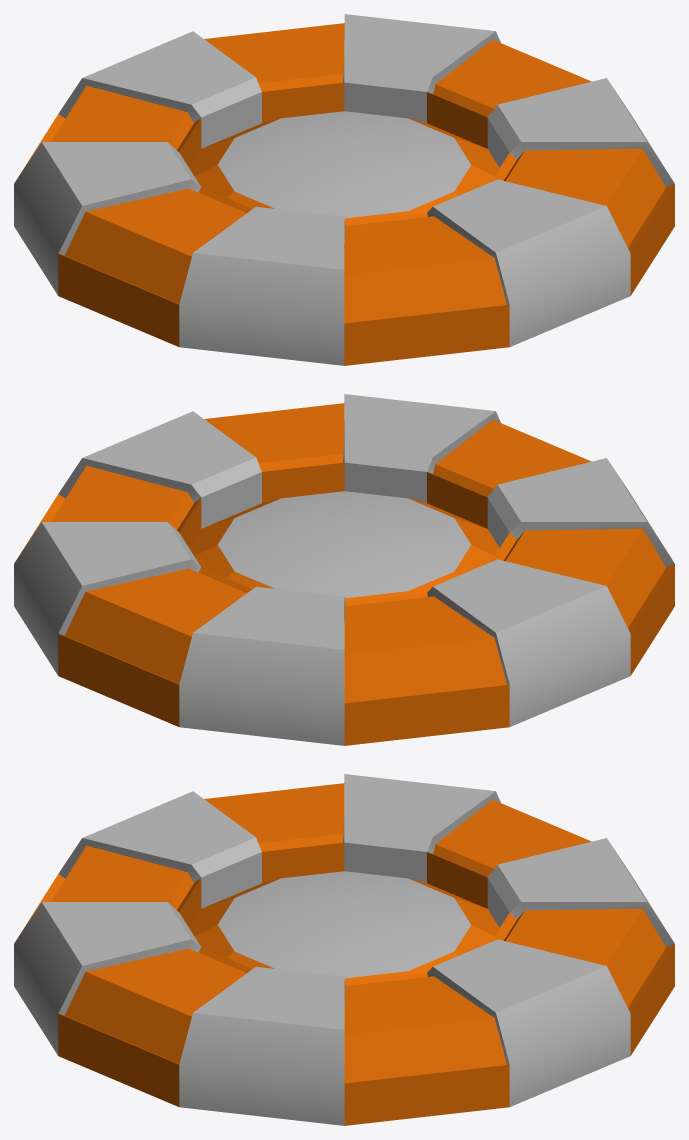
Rendered from Mine.fbx.
3 views of the same model, one above another, from view 1: azimuth 30°, elevation 25°; view 2: azimuth 150°, elevation 25°; view 3: azimuth 270°, elevation 25° (orthographic).
Parts seen in each view (by area): view 1: mine; view 2: mine; view 3: mine.
Boxes of the visible parts, bbox=[...] form: mine: bbox=[14, 14, 674, 365]; mine: bbox=[14, 394, 674, 745]; mine: bbox=[14, 774, 674, 1125].
Size of the model in its own units: 2 by 0.2814 by 2.
